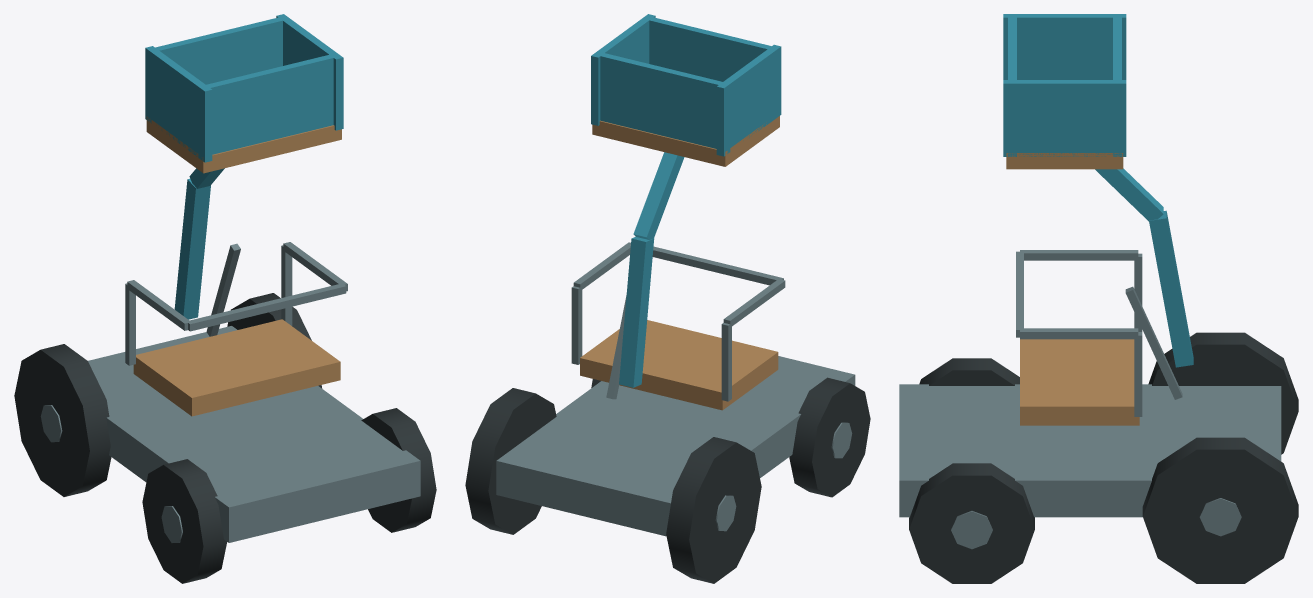
File: orchard-picker.source.glb
3 renders of one model, left to right at view 1: azimuth 30°, elevation 25°; view 2: azimuth 150°, elevation 25°; view 3: azimuth 270°, elevation 25°, orthographic. The views are drawn at different scales.
Parts seen in each view (by area): view 1: orchard-picker-low-orchard-chassis-mesh, orchard-picker-tire-mesh (×4), orchard-picker-operator-deck-mesh, orchard-picker-basket-front-mesh, orchard-picker-basket-rear-mesh, orchard-picker-basket-left-mesh, orchard-picker-boom-lower-mesh, orchard-picker-basket-floor-mesh, orchard-picker-basket-right-mesh, orchard-picker-front-rail-mesh, orchard-picker-hub-mesh (×2), orchard-picker-hydraulic-ram-mesh (+4 smaller); view 2: orchard-picker-low-orchard-chassis-mesh, orchard-picker-tire-mesh (×3), orchard-picker-operator-deck-mesh, orchard-picker-basket-rear-mesh, orchard-picker-basket-front-mesh, orchard-picker-basket-left-mesh, orchard-picker-boom-lower-mesh, orchard-picker-basket-floor-mesh, orchard-picker-basket-right-mesh, orchard-picker-boom-upper-mesh, orchard-picker-front-rail-mesh, orchard-picker-hub-mesh (×2) (+5 smaller); view 3: orchard-picker-tire-mesh (×4), orchard-picker-low-orchard-chassis-mesh, orchard-picker-operator-deck-mesh, orchard-picker-basket-right-mesh, orchard-picker-basket-left-mesh, orchard-picker-boom-lower-mesh, orchard-picker-hub-mesh (×2), orchard-picker-basket-floor-mesh, orchard-picker-boom-upper-mesh, orchard-picker-rail-top-0.62-mesh, orchard-picker-rail-top--0.62-mesh, orchard-picker-hydraulic-ram-mesh (+4 smaller).
Part boxes in pixels (x1,y1,x2,y2): orchard-picker-low-orchard-chassis-mesh: [88, 326, 420, 542]; orchard-picker-tire-mesh (×4): [14, 293, 436, 583]; orchard-picker-operator-deck-mesh: [133, 319, 340, 416]; orchard-picker-basket-front-mesh: [198, 53, 339, 160]; orchard-picker-basket-rear-mesh: [147, 17, 289, 123]; orchard-picker-basket-left-mesh: [145, 46, 212, 162]; orchard-picker-boom-lower-mesh: [174, 178, 210, 319]; orchard-picker-basket-floor-mesh: [146, 116, 341, 173]; orchard-picker-basket-right-mesh: [276, 14, 343, 130]; orchard-picker-front-rail-mesh: [186, 284, 346, 331]; orchard-picker-hub-mesh (×2): [40, 405, 182, 542]; orchard-picker-hydraulic-ram-mesh: [206, 243, 240, 336]; orchard-picker-low-orchard-chassis-mesh: [496, 356, 855, 536]; orchard-picker-tire-mesh (×3): [465, 377, 870, 583]; orchard-picker-operator-deck-mesh: [580, 320, 778, 410]; orchard-picker-basket-rear-mesh: [595, 52, 730, 153]; orchard-picker-basket-front-mesh: [642, 16, 779, 118]; orchard-picker-basket-left-mesh: [716, 44, 781, 156]; orchard-picker-boom-lower-mesh: [619, 236, 654, 387]; orchard-picker-basket-floor-mesh: [592, 116, 779, 166]; orchard-picker-basket-right-mesh: [591, 14, 655, 125]; orchard-picker-boom-upper-mesh: [633, 152, 684, 239]; orchard-picker-front-rail-mesh: [652, 246, 783, 285]; orchard-picker-hub-mesh (×2): [715, 422, 852, 531]; orchard-picker-tire-mesh (×4): [909, 332, 1298, 583]; orchard-picker-low-orchard-chassis-mesh: [899, 384, 1281, 517]; orchard-picker-operator-deck-mesh: [1020, 339, 1139, 425]; orchard-picker-basket-right-mesh: [1003, 80, 1126, 156]; orchard-picker-basket-left-mesh: [1003, 14, 1126, 79]; orchard-picker-boom-lower-mesh: [1149, 210, 1193, 367]; orchard-picker-hub-mesh (×2): [951, 498, 1241, 549]; orchard-picker-basket-floor-mesh: [1006, 153, 1123, 169]; orchard-picker-boom-upper-mesh: [1095, 168, 1163, 221]; orchard-picker-rail-top-0.62-mesh: [1020, 328, 1138, 339]; orchard-picker-rail-top--0.62-mesh: [1020, 250, 1138, 260]; orchard-picker-hydraulic-ram-mesh: [1125, 286, 1182, 399].
Bounding box in the file's own units: 1.87 × 3.51 × 2.66.
